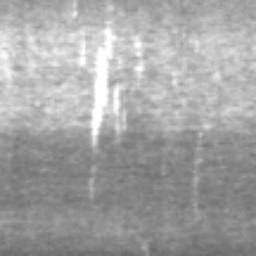White rust: (66, 19, 127, 149), (133, 58, 146, 82)
